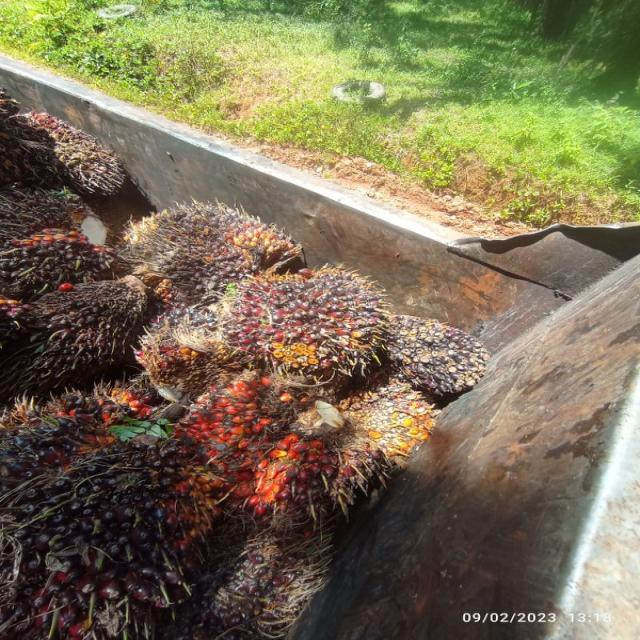fraksi 00: (0, 386, 213, 640), (122, 180, 305, 298), (0, 278, 175, 381), (197, 512, 333, 640), (371, 284, 508, 410), (0, 89, 139, 201), (0, 187, 140, 286), (134, 289, 234, 387)
fraksi 1: (211, 260, 395, 400)
fraksi 3: (158, 367, 397, 525)
